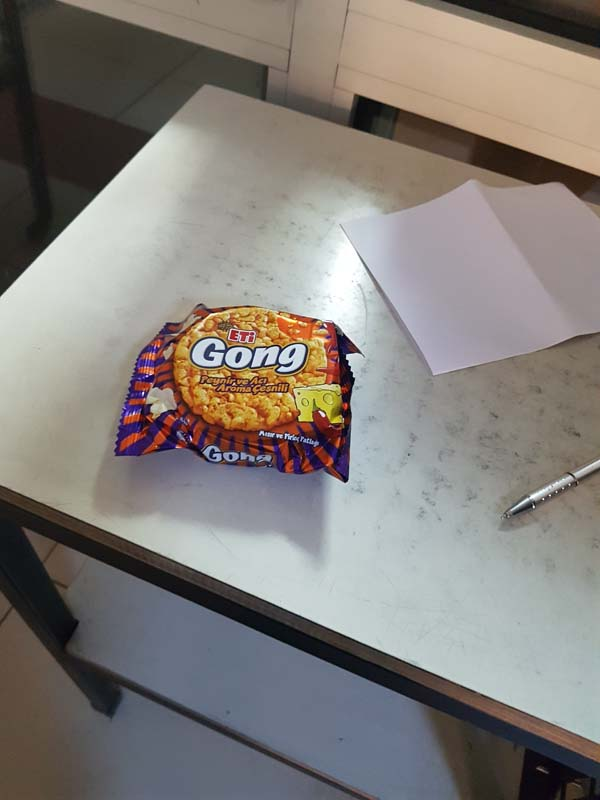etigong: (120, 300, 365, 493)
